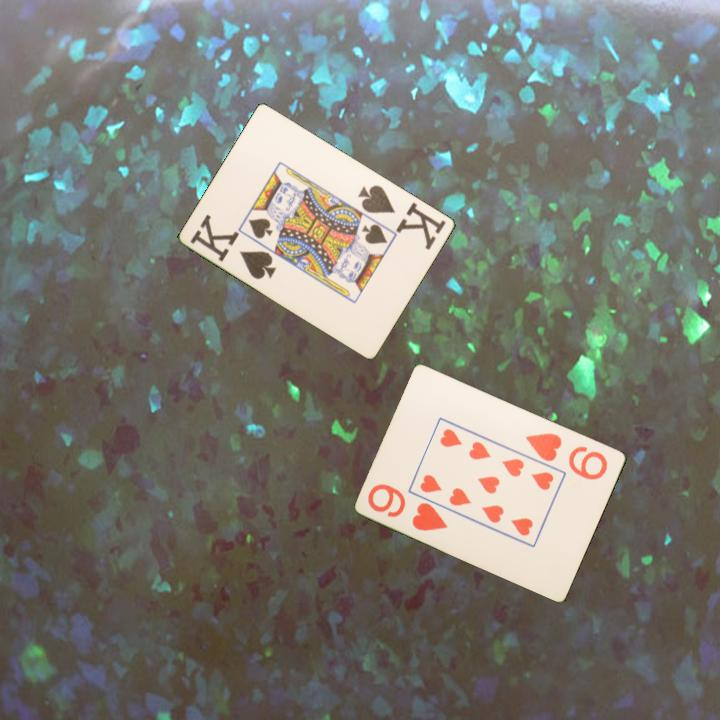9h: (522, 429, 611, 483), (364, 480, 451, 534)
Ks: (355, 181, 449, 252), (187, 211, 280, 282)
